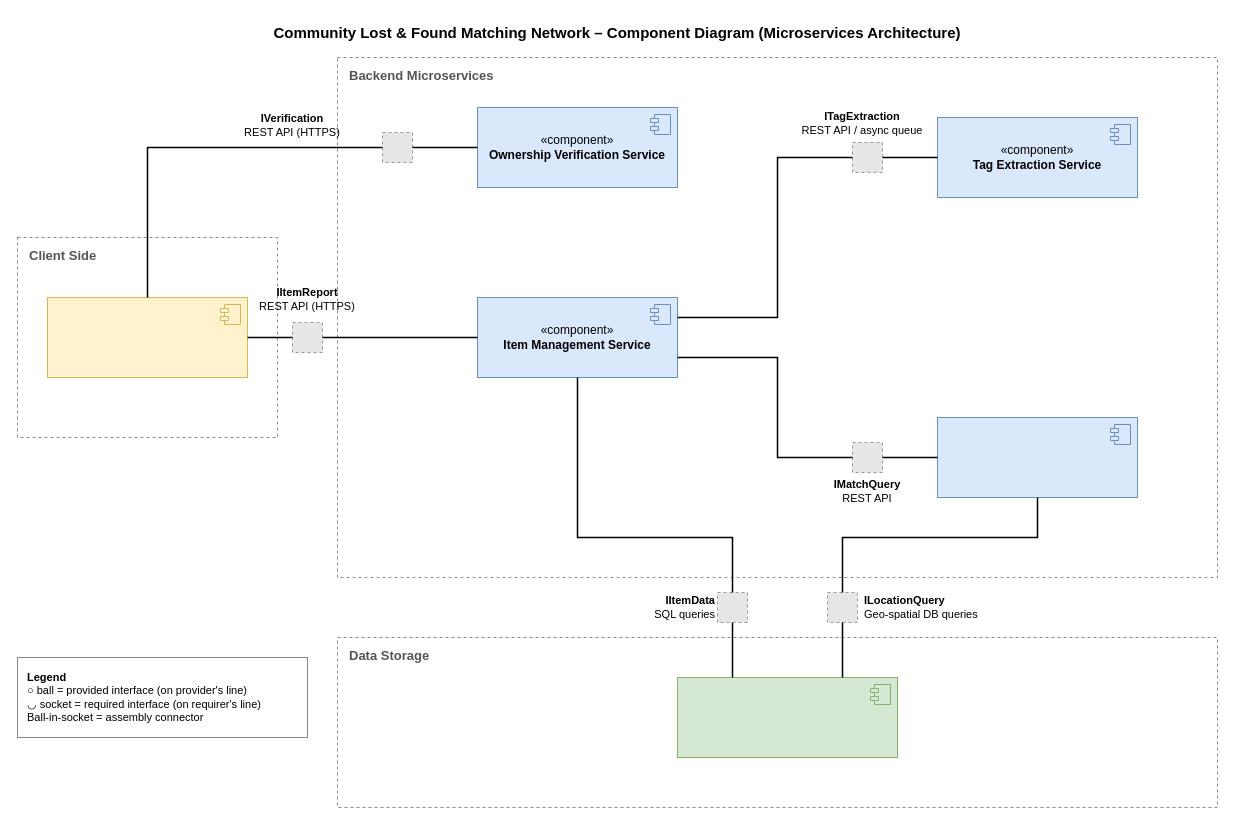
The diagram is 1235 pixels wide and 825 high, and some of its shapes have lost their labels. Grey dashed boxes stand in for pictures. Here are the shapes that lost their labels. From the top down, the centre of each, then its label:
At (x=147, y=337): "«component» Client App (Web / Mobile UI)".
At (x=1037, y=457): "«component» Geo-Matching Service".
At (x=787, y=717): "«component» Item Database".
